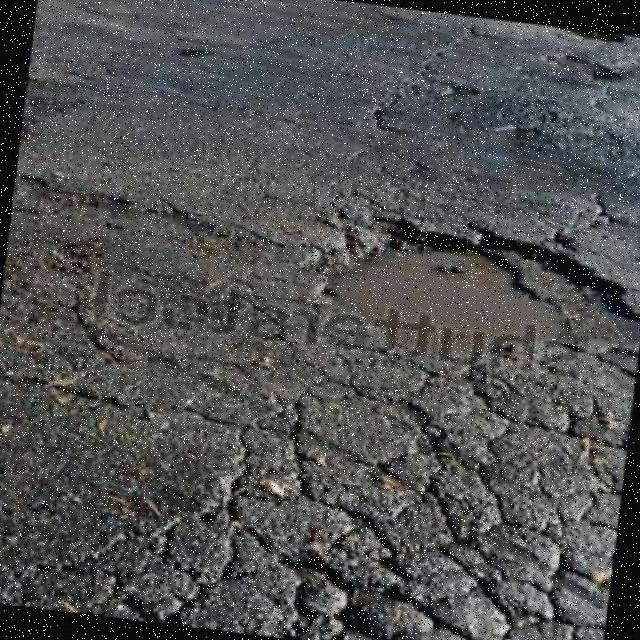Pothole: (330, 219, 640, 354)
